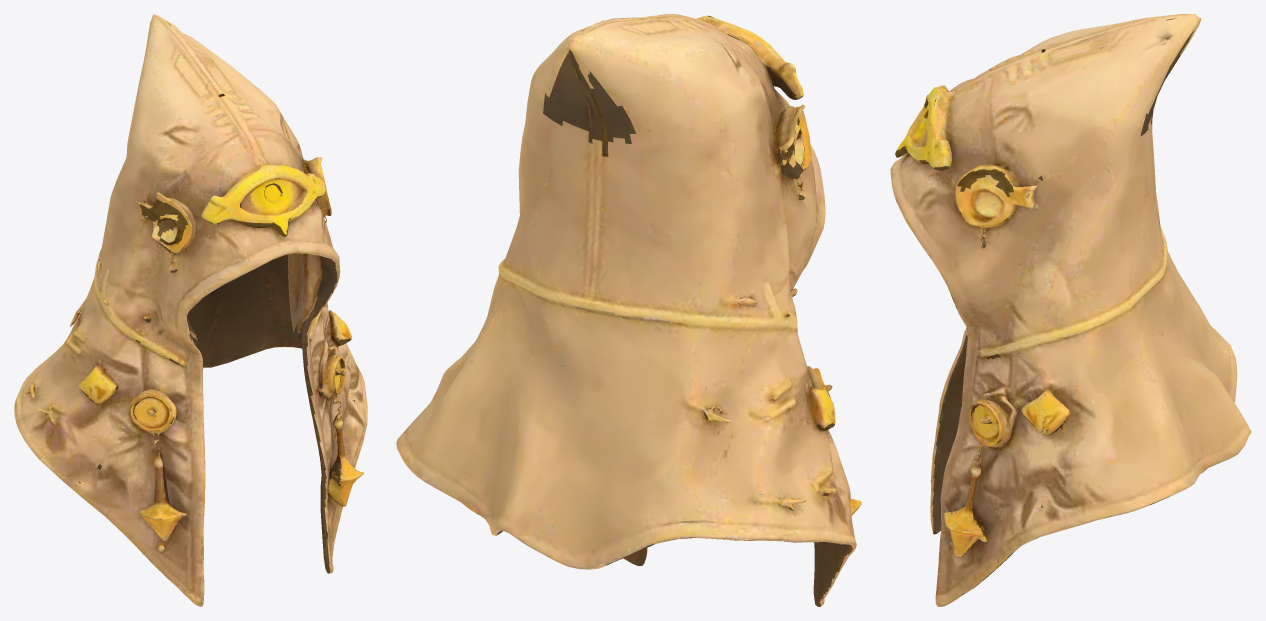
The model's file is oraculo-elmo.glb.
3 renders of one model, left to right at view 1: azimuth 30°, elevation 25°; view 2: azimuth 150°, elevation 25°; view 3: azimuth 270°, elevation 25°, orthographic. The views are drawn at different scales.
Visible parts, largest first — view 1: tripo_node_5940cc46-6410-43d9-9b66-8ec6d991daf5; view 2: tripo_node_5940cc46-6410-43d9-9b66-8ec6d991daf5; view 3: tripo_node_5940cc46-6410-43d9-9b66-8ec6d991daf5.
Boxes of the visible parts, x1,y1,x2,y2 form: tripo_node_5940cc46-6410-43d9-9b66-8ec6d991daf5: (14,14,367,606); tripo_node_5940cc46-6410-43d9-9b66-8ec6d991daf5: (396,14,861,606); tripo_node_5940cc46-6410-43d9-9b66-8ec6d991daf5: (890,14,1251,606).
Bounding box in the file's own units: 0.6761 × 0.9761 × 0.5721.
Materials: 1 (1 with a texture image).
